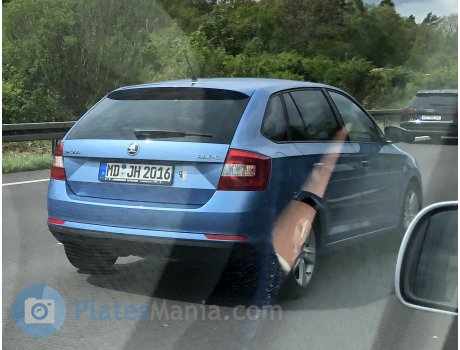License Plates: (102, 163, 173, 181)
